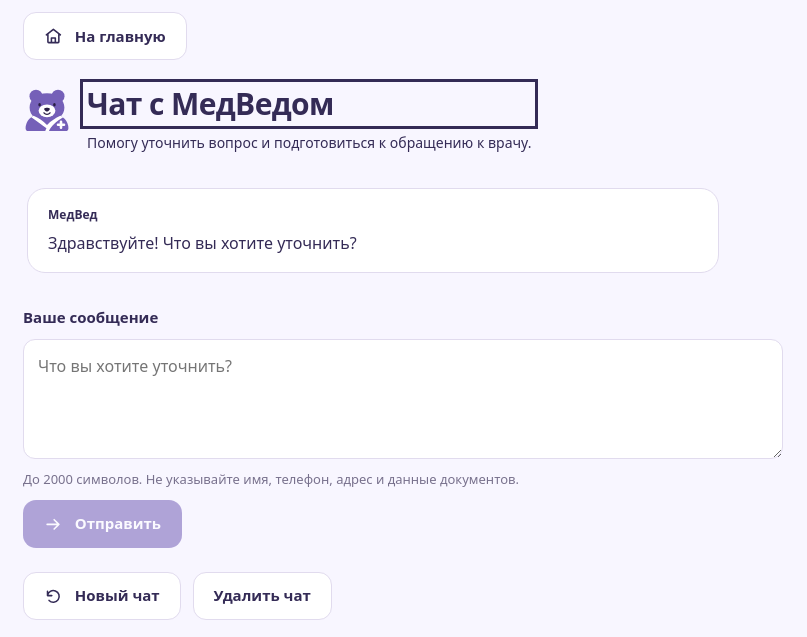
Test case: emergency response replaces the composer with accessible phone links
The width and height of the screenshot is (807, 637).
Expected: the text "Здравствуйте! Что вы хотите уточнить?" is shown, [48, 232, 357, 254]
Type "Срочный вопрос" into the text box labelled "Ваше сообщение" at (403, 399), box [23, 339, 783, 459]
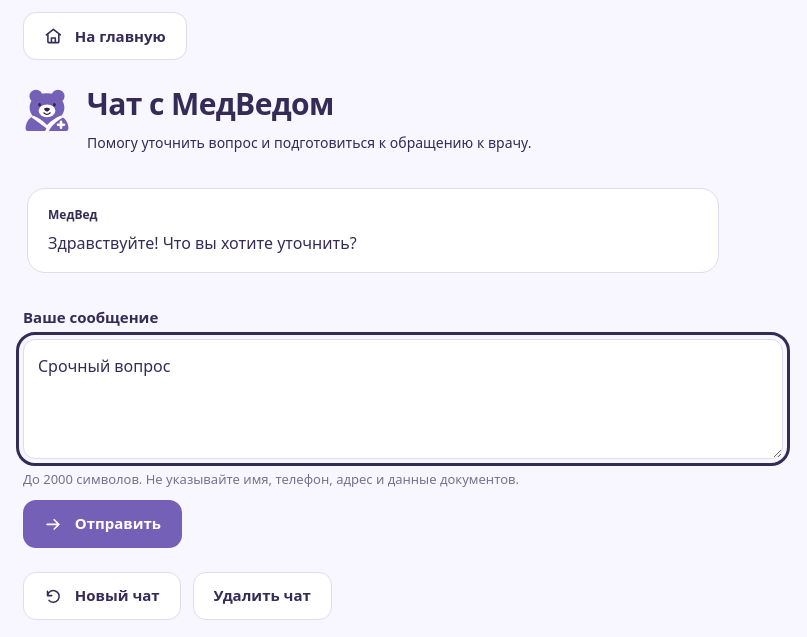
Click the button "Отправить" at (103, 524), box [23, 500, 182, 548]
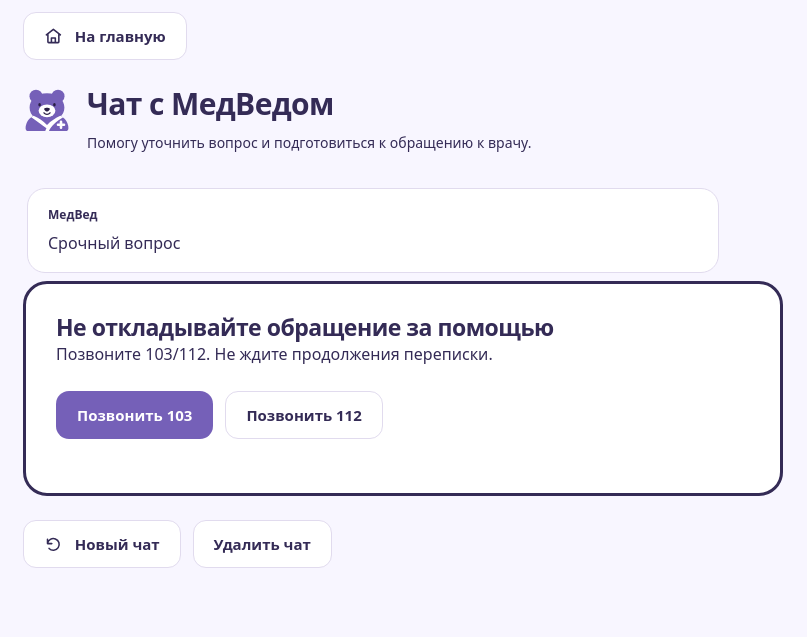
Expected: the label labelled "Ваше сообщение" is gone
